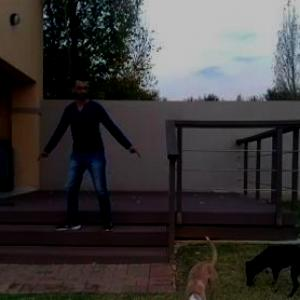land: (49, 74, 123, 241)
